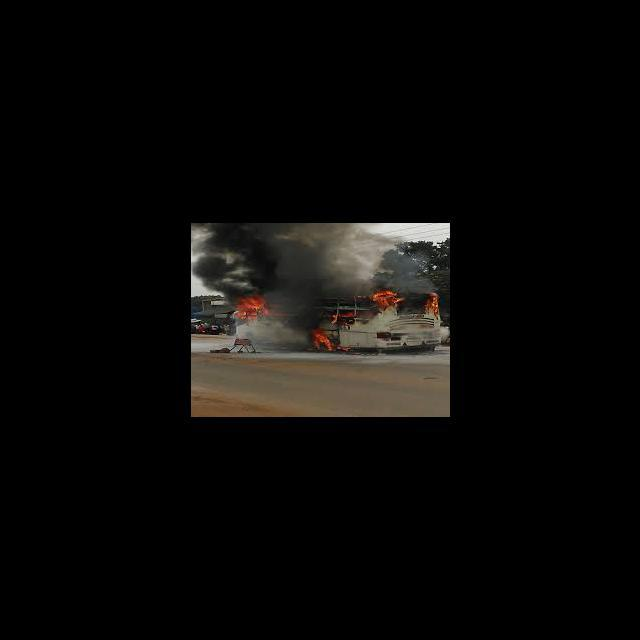Fire: (231, 292, 270, 321), (308, 327, 338, 352), (372, 286, 402, 311), (424, 292, 439, 316)
Smoke: (287, 224, 393, 288), (191, 224, 288, 290), (237, 323, 303, 355), (271, 290, 328, 325), (394, 245, 433, 286)
